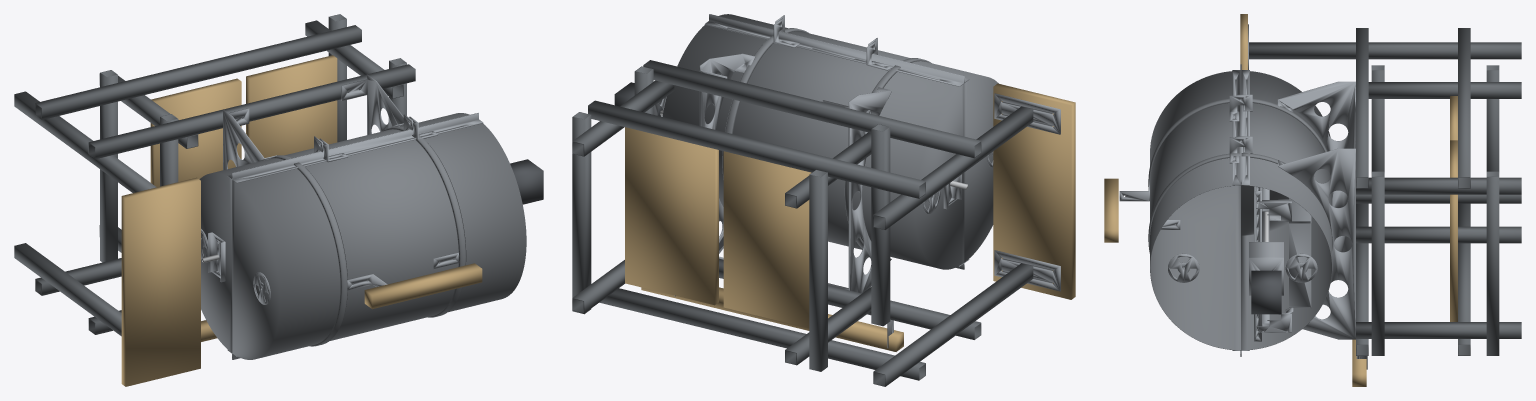
Rendered from parrilla_tambor.glb.
3 views of the same model, side by side, from view 1: azimuth 30°, elevation 25°; view 2: azimuth 150°, elevation 25°; view 3: azimuth 270°, elevation 25° (orthographic). The views are drawn at different scales.
Parts seen in each view (by area): view 1: TAM-TAPA, MAD-MESA, TUB-LARGUERO_+1_180, MAD-ESTANTE_+1, TAM-CUBA, TUB-LARGUERO_+1_500, MAD-ESTANTE_-1, PER-CANTO_3, TUB-POSTE_+1, TUB-POSTE_-1, MAD-ASA, TUB-TRAVESANO_-1_90 (+9 smaller); view 2: TAM-CUBA, MAD-ESTANTE_+1, MAD-ESTANTE_-1, MAD-MESA, TUB-LARGUERO_+1_180, TUB-LARGUERO_+1_500, TAM-TAPA, TUB-LARGUERO_-1_180, TUB-POSTE_-1, TUB-TRAVESANO_-1_90, TUB-POSTE_+1, TUB-TRAVESANO_-1_450 (+13 smaller); view 3: TAM-TAPA, TAM-CUBA, CUN-CUNA_2, TUB-POSTE_+1, CUN-CUNA_1, TUB-TRAVESANO_+1_450, TUB-TRAVESANO_+1_90, TUB-PATA_+1-1, TUB-PATA_-1-1, TUB-PATA_-1+1, TUB-PATA_+1+1, TUB-LARGUERO_+1_500 (+21 smaller).
Part boxes in pixels (bbox=[...]): TAM-TAPA: bbox=[232, 123, 526, 359]; MAD-MESA: bbox=[121, 177, 200, 386]; TUB-LARGUERO_+1_180: bbox=[35, 25, 361, 119]; MAD-ESTANTE_+1: bbox=[246, 55, 337, 157]; TAM-CUBA: bbox=[199, 113, 469, 352]; TUB-LARGUERO_+1_500: bbox=[88, 64, 415, 159]; MAD-ESTANTE_-1: bbox=[150, 78, 241, 187]; PER-CANTO_3: bbox=[232, 113, 483, 182]; TUB-POSTE_+1: bbox=[14, 91, 156, 192]; TUB-POSTE_-1: bbox=[14, 243, 121, 336]; MAD-ASA: bbox=[364, 263, 482, 309]; TUB-TRAVESANO_-1_90: bbox=[100, 70, 117, 262]; TAM-CUBA: bbox=[662, 25, 964, 269]; MAD-ESTANTE_+1: bbox=[625, 127, 718, 305]; MAD-ESTANTE_-1: bbox=[723, 151, 811, 328]; MAD-MESA: bbox=[993, 83, 1075, 299]; TUB-LARGUERO_+1_180: bbox=[588, 100, 925, 198]; TUB-LARGUERO_+1_500: bbox=[643, 60, 981, 158]; TAM-TAPA: bbox=[719, 14, 998, 262]; TUB-LARGUERO_-1_180: bbox=[599, 288, 925, 380]; TUB-POSTE_-1: bbox=[873, 263, 1033, 386]; TUB-TRAVESANO_-1_90: bbox=[809, 169, 827, 371]; TUB-POSTE_+1: bbox=[873, 106, 1033, 229]; TUB-TRAVESANO_-1_450: bbox=[871, 124, 890, 326]; TAM-TAPA: bbox=[1148, 71, 1240, 350]; TAM-CUBA: bbox=[1241, 71, 1333, 350]; CUN-CUNA_2: bbox=[1278, 141, 1355, 339]; TUB-POSTE_+1: bbox=[1249, 42, 1521, 59]; CUN-CUNA_1: bbox=[1277, 81, 1355, 252]; TUB-TRAVESANO_+1_450: bbox=[1371, 171, 1384, 355]; TUB-TRAVESANO_+1_90: bbox=[1486, 171, 1499, 355]; TUB-PATA_+1-1: bbox=[1356, 322, 1521, 338]; TUB-PATA_-1-1: bbox=[1356, 226, 1521, 243]; TUB-PATA_-1+1: bbox=[1368, 82, 1521, 98]; TUB-PATA_+1+1: bbox=[1356, 177, 1521, 194]; TUB-LARGUERO_+1_500: bbox=[1356, 28, 1368, 188].
Bounding box in the file's own units: 1464 × 756 × 1309.
